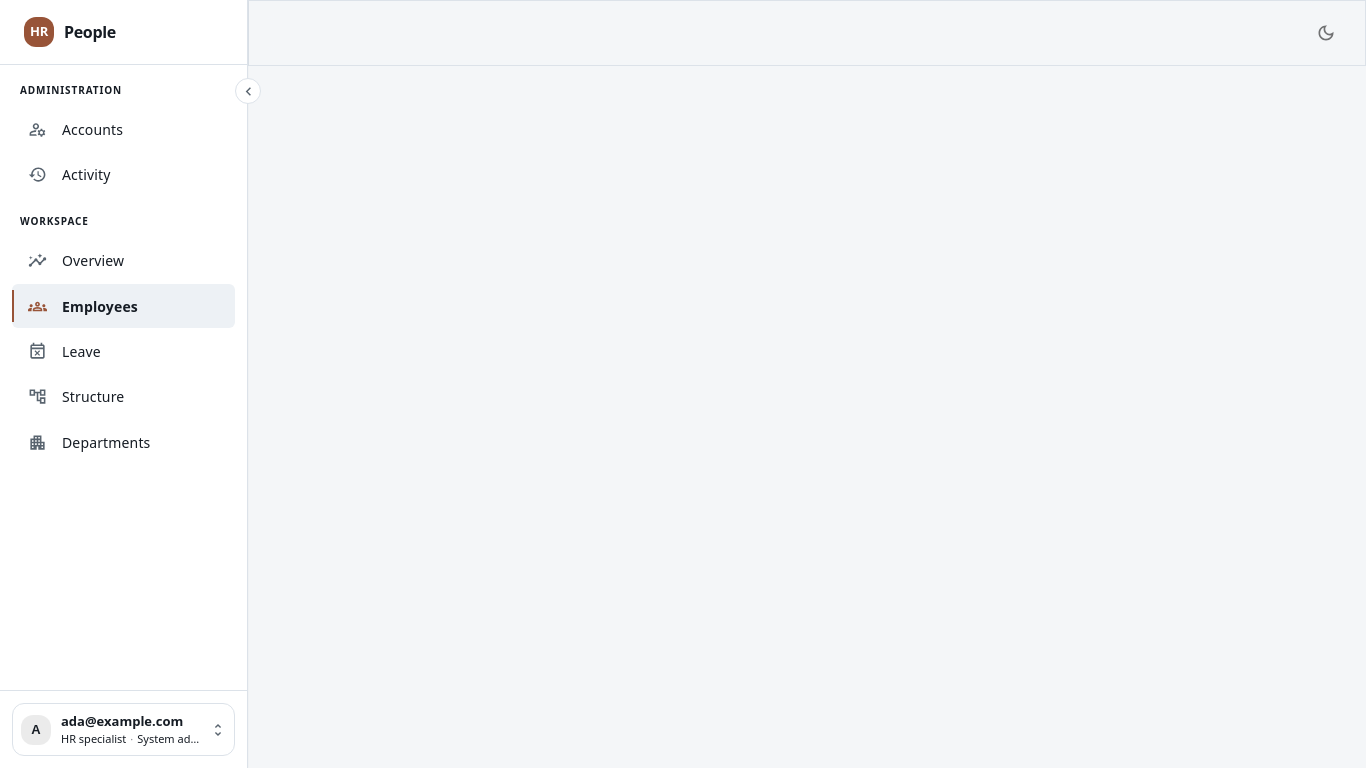
Test case: Layout › collapses the navigation to a rail without losing it
Check: the text "ada@example.com" is shown, box [61, 712, 200, 730]
Click the button named "Collapse navigation" at (248, 91), box [235, 78, 261, 104]
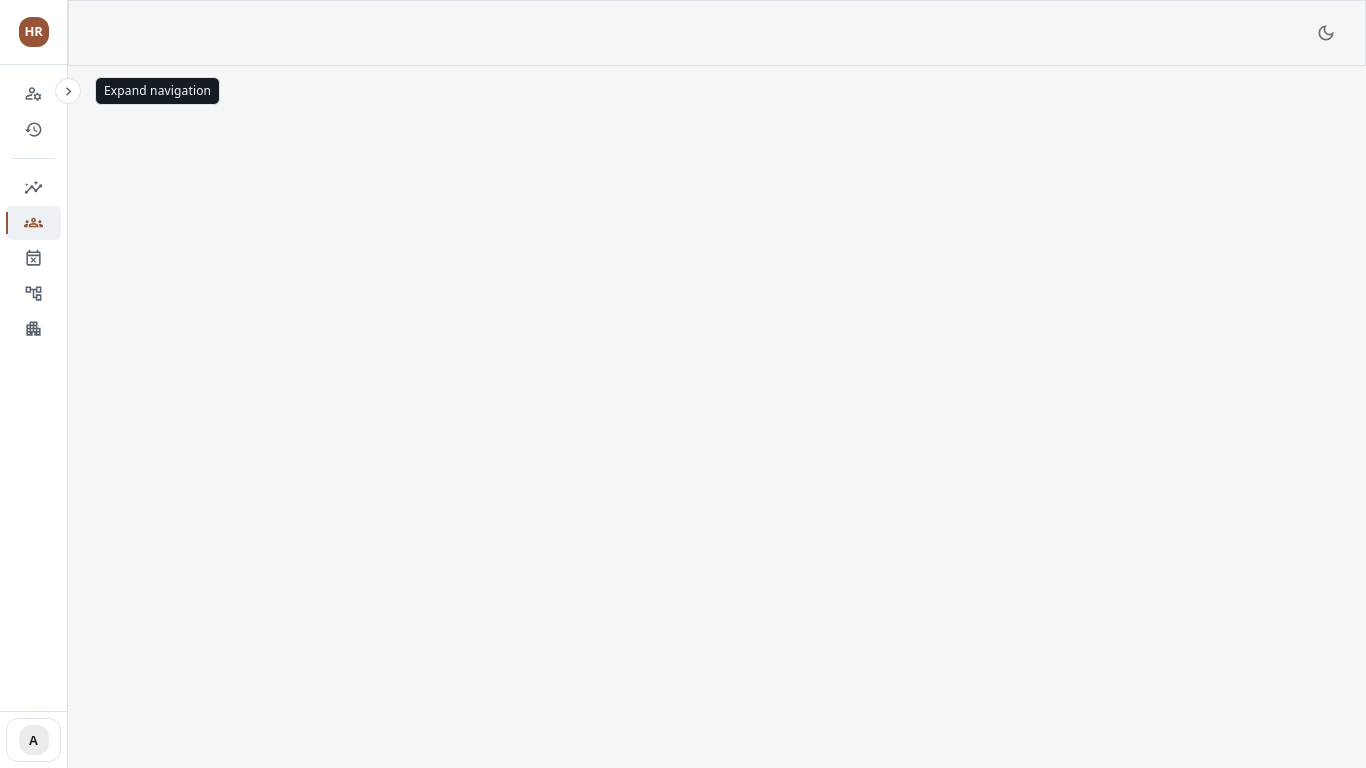
Check: the link named "Accounts" is shown, box [24, 84, 43, 103]
Check: the text "ada@example.com" is gone
Click the button named "Expand navigation" at (68, 91), box [55, 78, 81, 104]
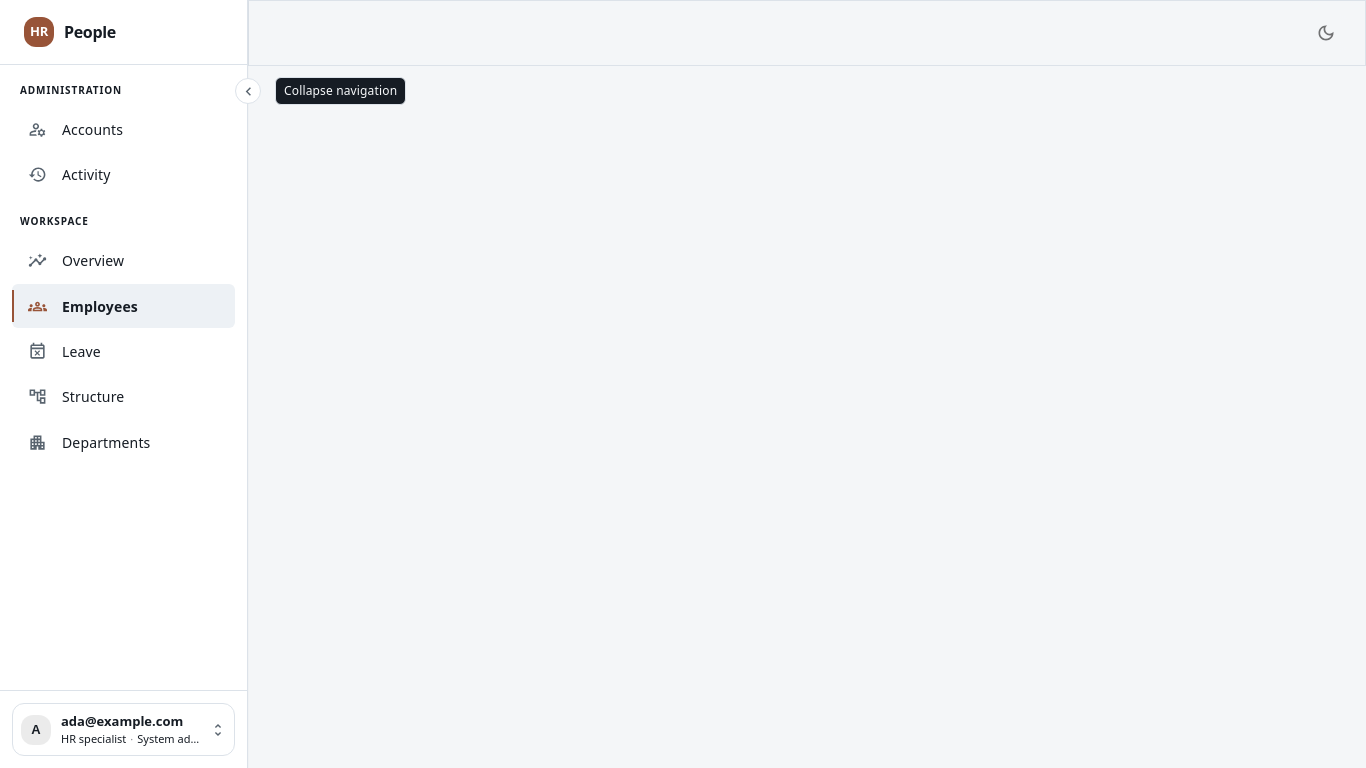
Check: the text "ada@example.com" is shown, box [61, 712, 200, 730]
